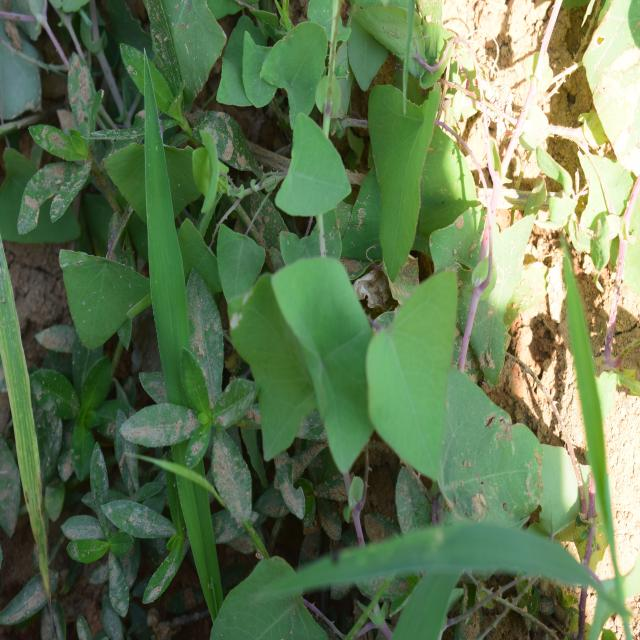Asiatic_Smartweed: (231, 219, 458, 493), (225, 21, 446, 272), (54, 215, 144, 344)
